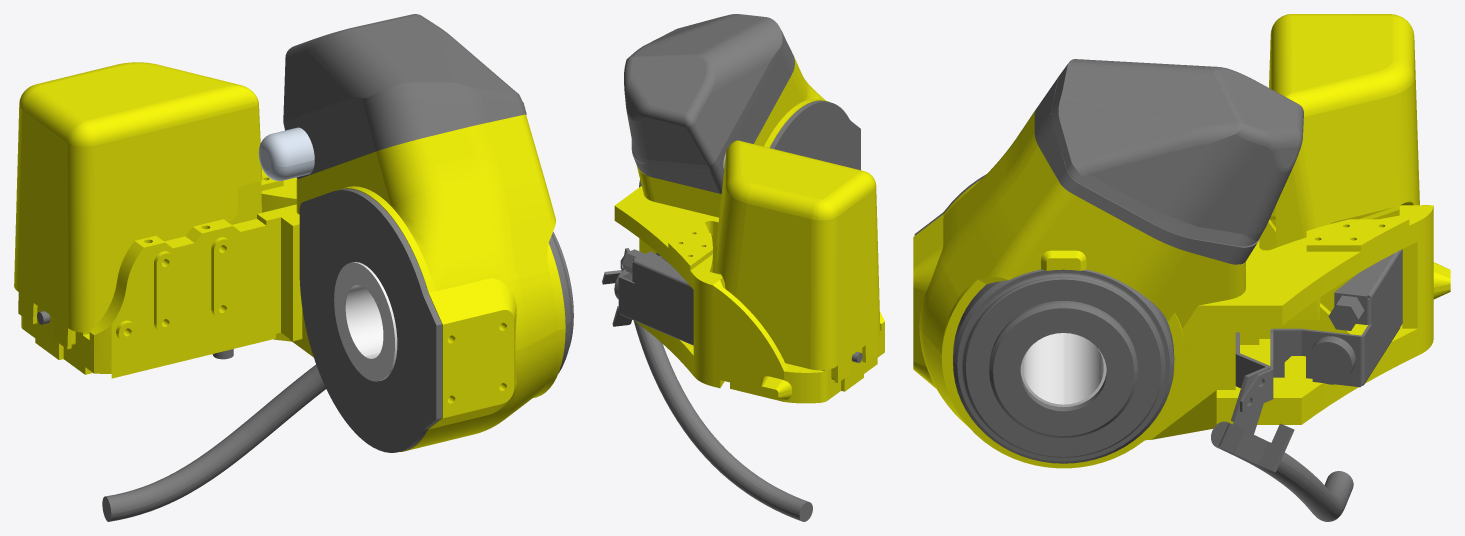
The picture shows the model from 3 angles, left to right: view 1: azimuth 30°, elevation 25°; view 2: azimuth 150°, elevation 25°; view 3: azimuth 270°, elevation 25°; orthographic projection. The views are drawn at different scales.
Visible parts, largest first — view 1: Mesh_0; view 2: Mesh_0; view 3: Mesh_0.
Boxes of the visible parts, box(x1,y1,x2,y2) form: Mesh_0: box(14, 14, 573, 521); Mesh_0: box(602, 14, 884, 521); Mesh_0: box(913, 14, 1450, 521).
Bounding box in the file's own units: 0.3213 × 0.4075 × 0.379.
